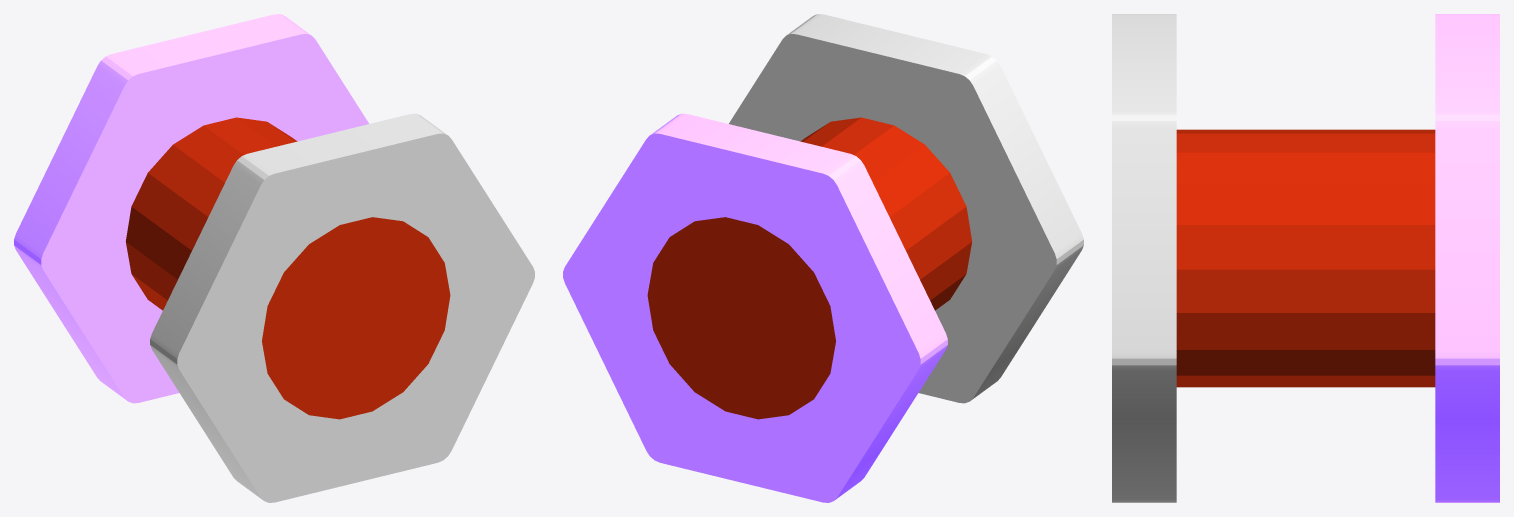
The model's file is device-anim.glb.
3 renders of one model, left to right at view 1: azimuth 30°, elevation 25°; view 2: azimuth 150°, elevation 25°; view 3: azimuth 270°, elevation 25°, orthographic. The views are drawn at different scales.
Parts seen in each view (by area): view 1: Layer:0, Layer:0.001, Layer:0.002; view 2: Layer:0.001, Layer:0, Layer:0.002; view 3: Layer:0.002, Layer:0, Layer:0.001.
Boxes of the visible parts, box(x1,y1,x2,y2) form: Layer:0: box(150, 113, 534, 502); Layer:0.001: box(14, 14, 368, 403); Layer:0.002: box(125, 117, 450, 419); Layer:0.001: box(563, 113, 947, 502); Layer:0: box(729, 14, 1083, 403); Layer:0.002: box(647, 117, 972, 419); Layer:0.002: box(1176, 129, 1435, 387); Layer:0: box(1112, 14, 1176, 502); Layer:0.001: box(1435, 14, 1499, 502).
Bounding box in the file's own units: 5.78 × 5.08 × 4.57.
